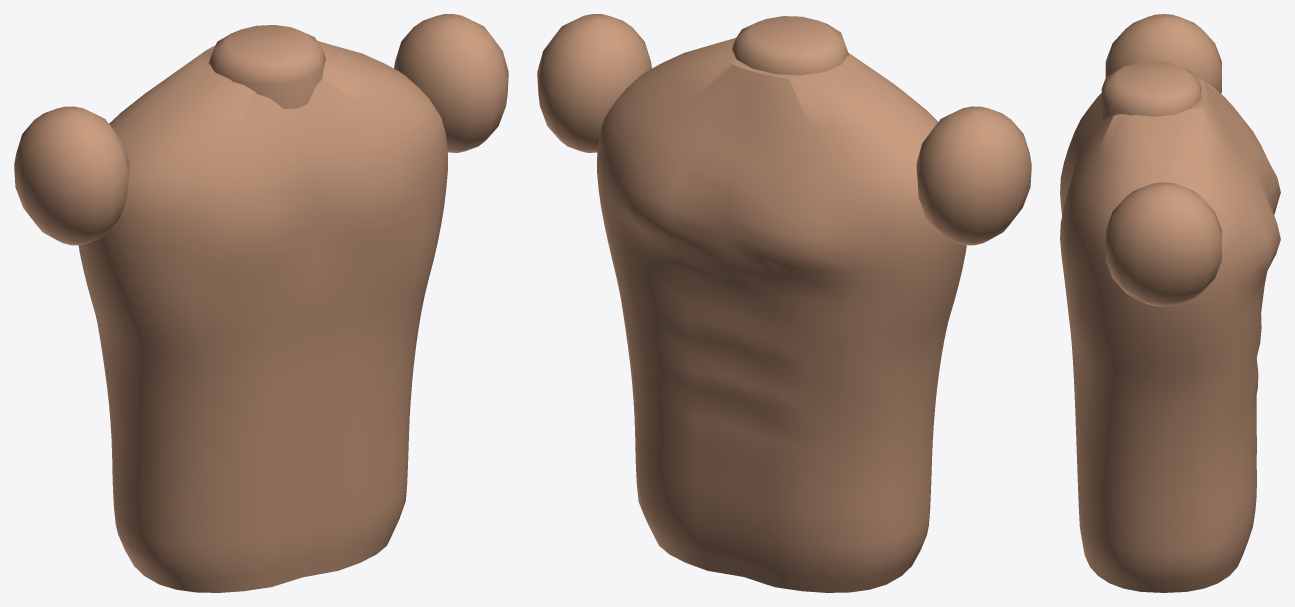
The model's file is torso.glb.
The picture shows the model from 3 angles, left to right: view 1: azimuth 30°, elevation 25°; view 2: azimuth 150°, elevation 25°; view 3: azimuth 270°, elevation 25°; orthographic projection. The views are drawn at different scales.
Parts seen in each view (by area): view 1: OUT; view 2: OUT; view 3: OUT.
Part boxes in pixels (left/top/right/bottom): OUT: left=14, top=14, right=508, bottom=592; OUT: left=537, top=14, right=1031, bottom=592; OUT: left=1060, top=14, right=1280, bottom=592.
Size of the model in its own units: 0.5272 by 0.54 by 0.2329.
